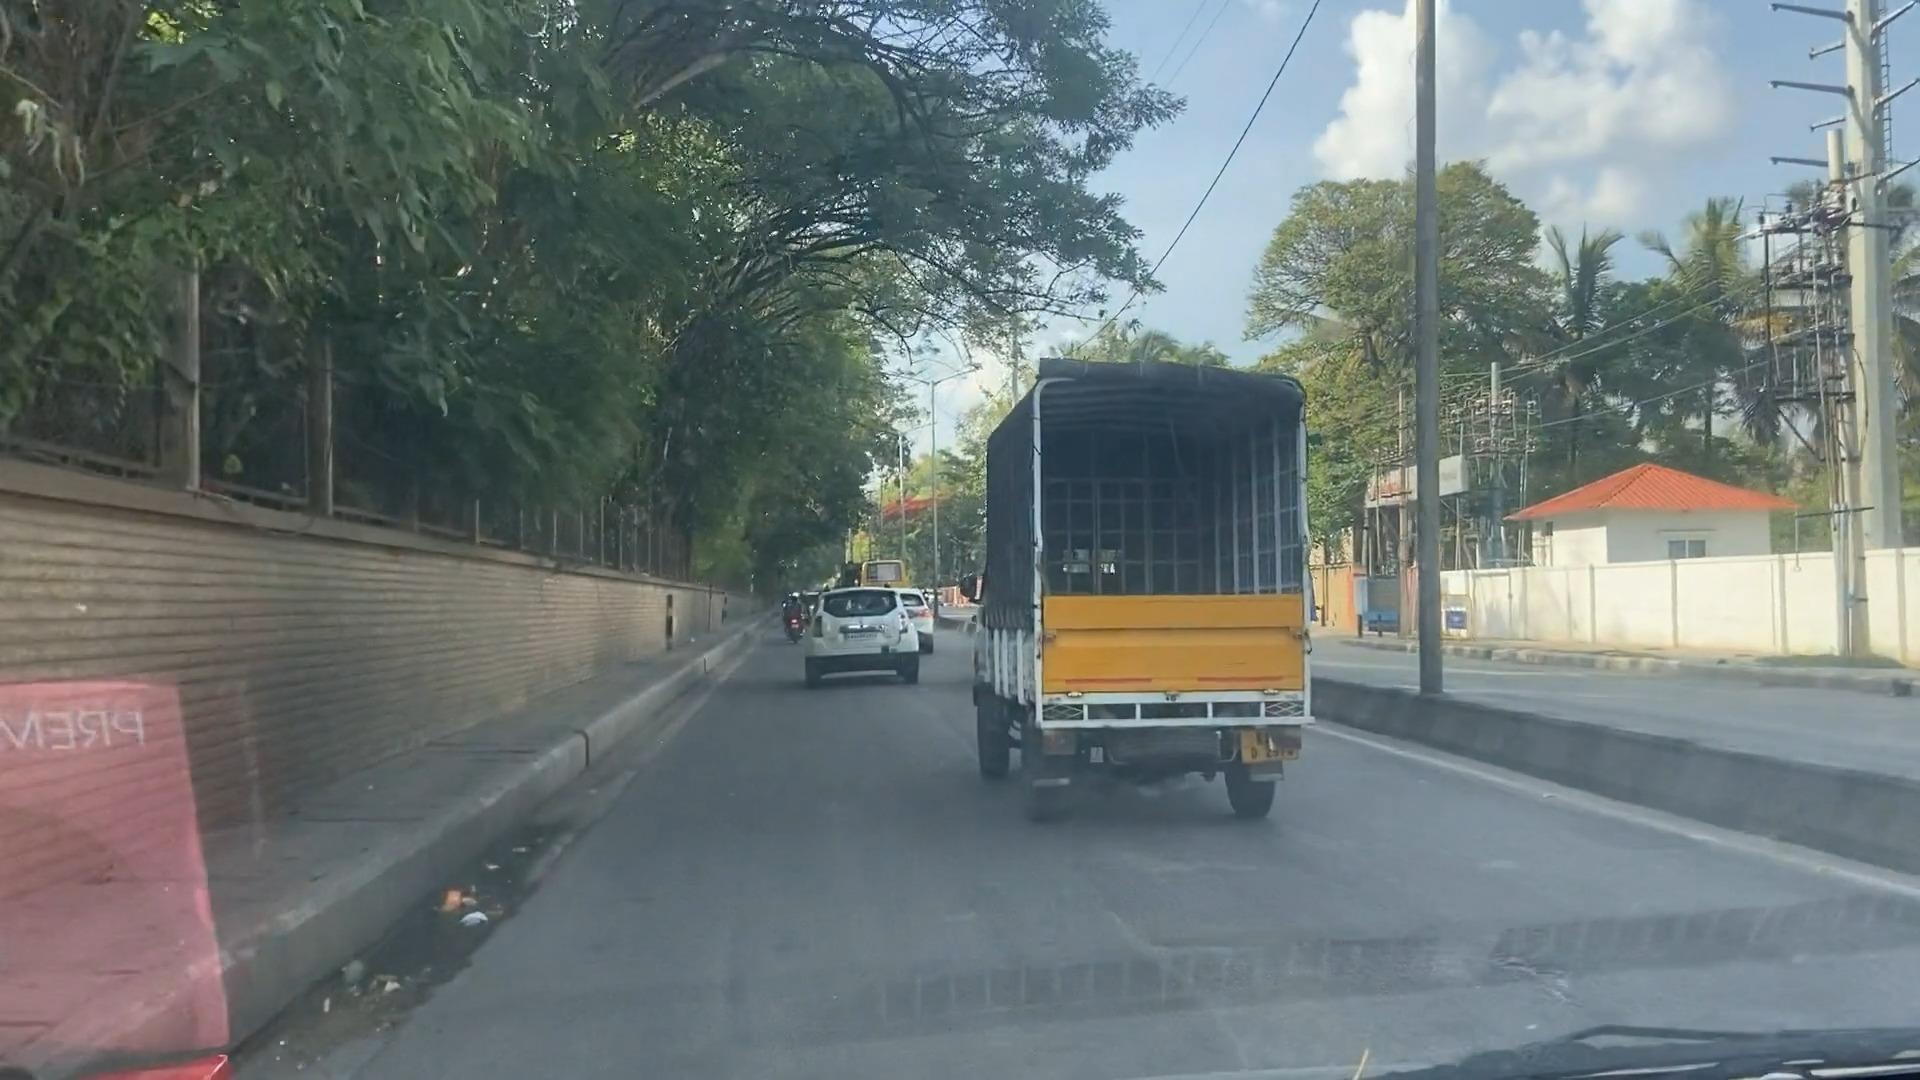HMV: (972, 366, 1316, 842)
LMV: (804, 580, 919, 698)
RoadDamages: (1126, 878, 1605, 1045)
